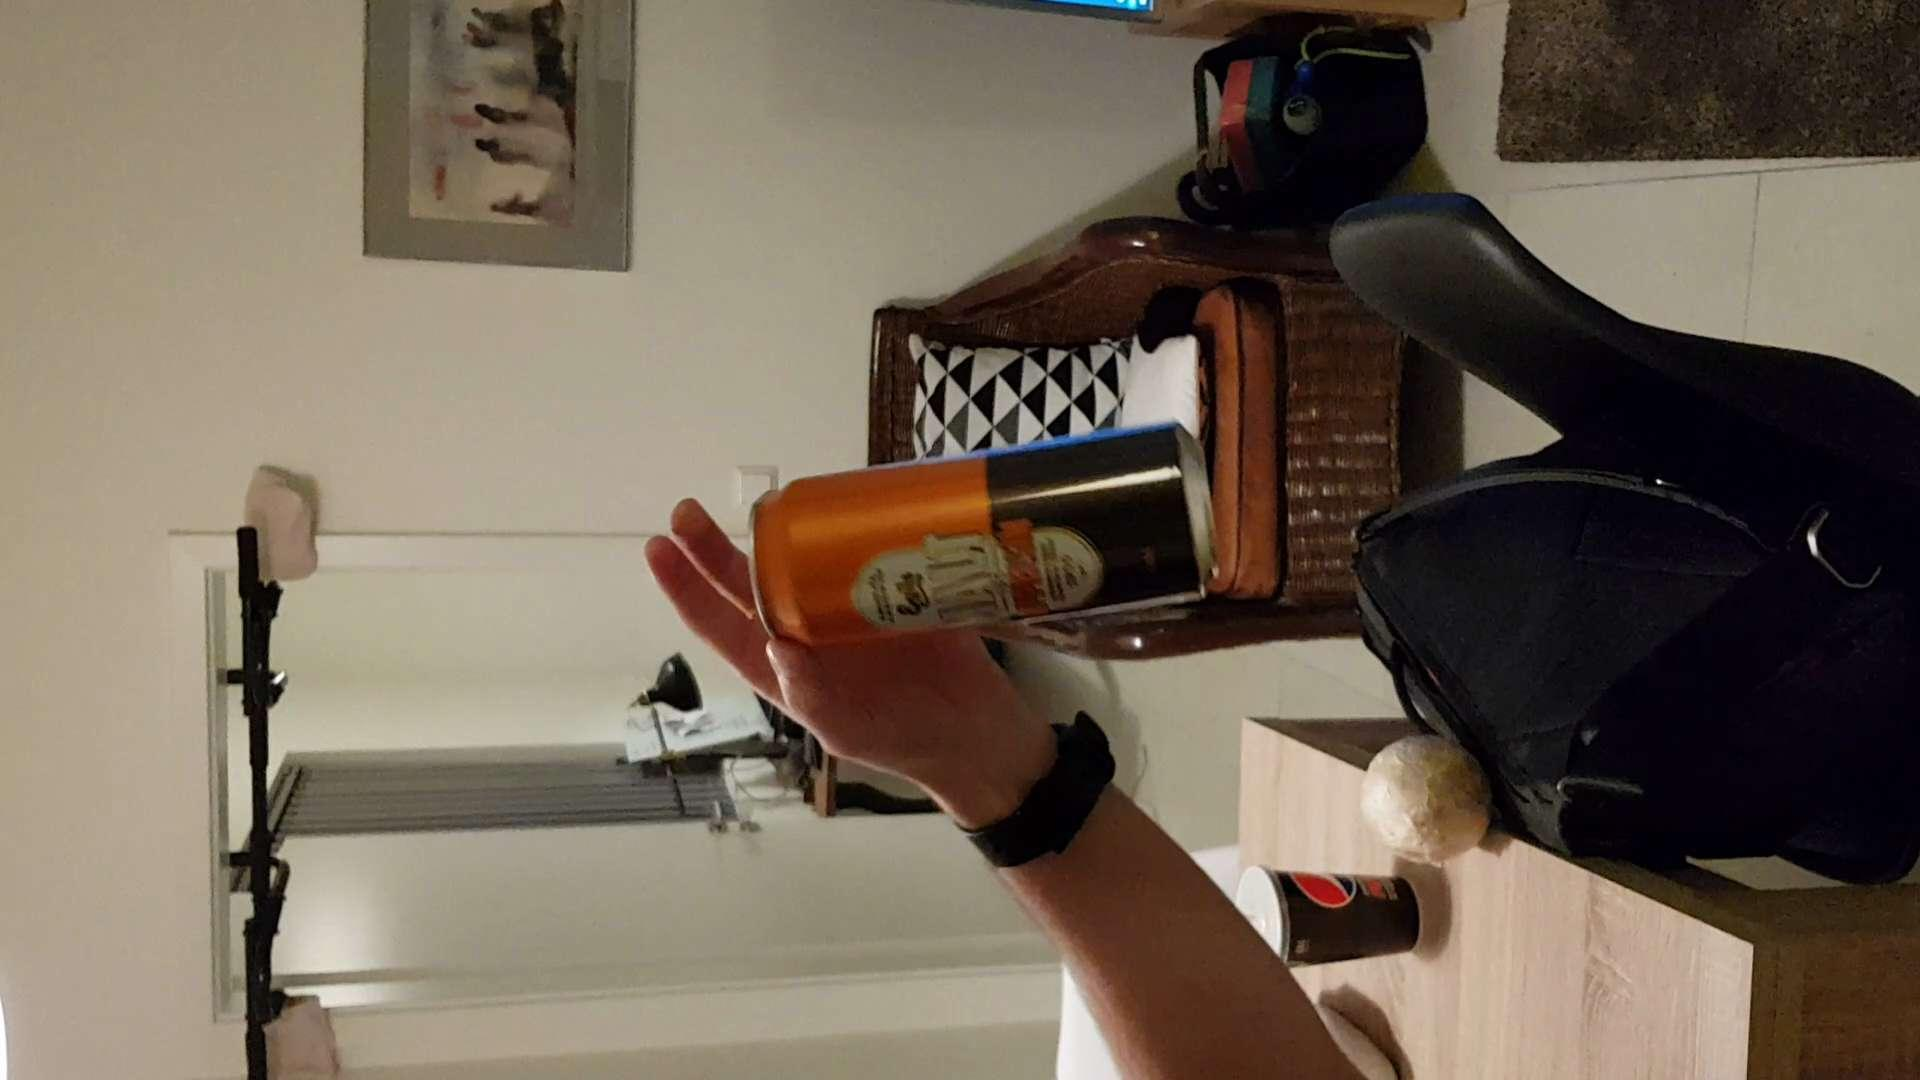Can: (745, 422, 1213, 653)
